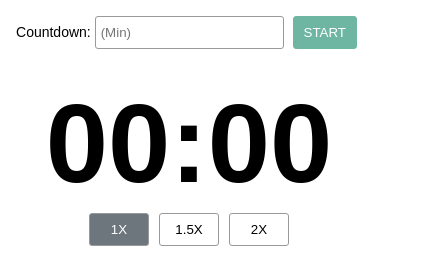
Test: renders all components
The image size is (430, 263).
Check: the button "1X" is shown, box [89,213,149,246]
Check: the button "1.5X" is shown, box [159,213,219,246]
Type "300" into the number field with placeholder "(Min)" at [189, 32], box [95,16,284,49]
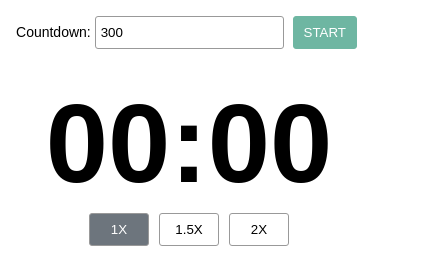
Click the button "START" at [325, 32], box [292,16,357,49]
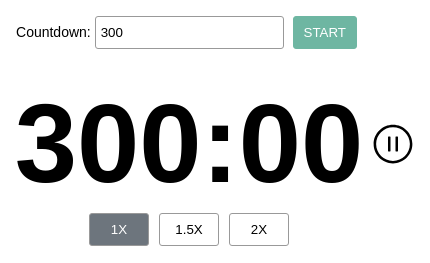
Check: the picture with test id "play" is shown, box [373,124,413,164]
